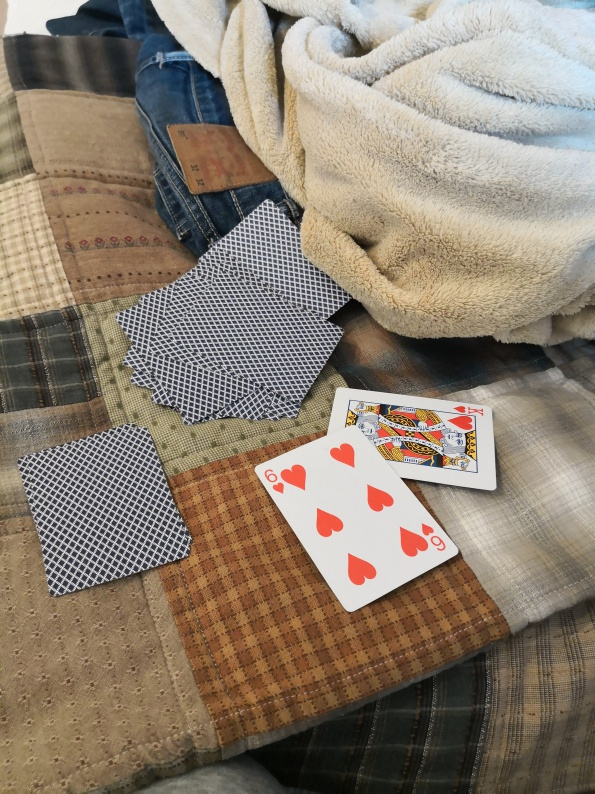6: (253, 424, 461, 616)
king: (327, 384, 499, 494)
